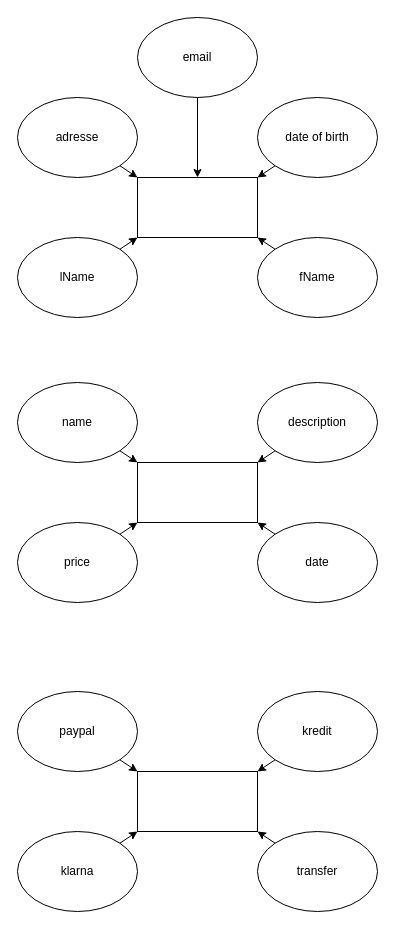
The diagram is 395 pixels wide and 929 high, and some of its shapes have lost their labels. The shapes that lost their labels are listed below. From the top down, each one's centre as x and y in pixels, then its label:
At (197,207): "customers".
At (197,492): "order".
At (197,801): "payment".
